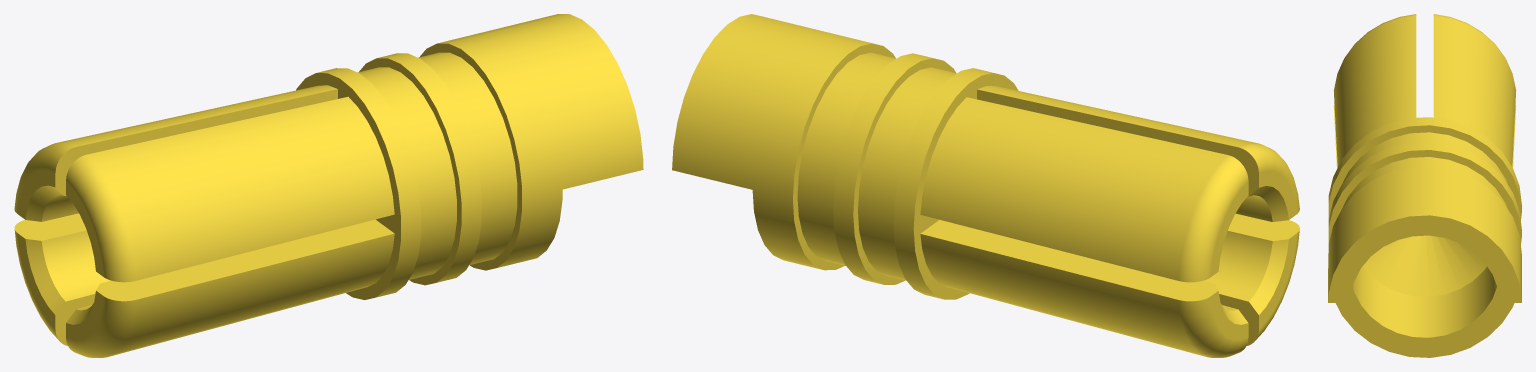
Rendered from REV_21_1652_P12_1__REV_21_1652_P12_1.gltf.
The picture shows the model from 3 angles, left to right: view 1: azimuth 30°, elevation 25°; view 2: azimuth 150°, elevation 25°; view 3: azimuth 270°, elevation 25°; orthographic projection. The views are drawn at different scales.
Visible parts, largest first — view 1: mesh81405, mesh81388, mesh81419, mesh81390, mesh81394, mesh81421, mesh81392, mesh81396, mesh81406, mesh81401, mesh81418, mesh81397 (+14 smaller); view 2: mesh81398, mesh81388, mesh81412, mesh81390, mesh81394, mesh81414, mesh81392, mesh81396, mesh81399, mesh81408, mesh81425, mesh81397 (+14 smaller); view 3: mesh81388, mesh81398, mesh81405, mesh81383, mesh81384, mesh81382, mesh81387, mesh81395, mesh81391, mesh81392, mesh81396, mesh81390 (+3 smaller).
Boxes of the visible parts, box(x1,y1,x2,y2) form: mesh81405: box(87, 96, 394, 280); mesh81388: box(437, 14, 643, 267); mesh81419: box(108, 233, 394, 356); mesh81390: box(418, 52, 517, 265); mesh81394: box(358, 67, 456, 279); mesh81421: box(96, 219, 394, 301); mesh81392: box(377, 53, 481, 282); mesh81396: box(317, 68, 421, 297); mesh81406: box(66, 154, 135, 282); mesh81401: box(55, 89, 337, 195); mesh81418: box(41, 230, 110, 301); mesh81397: box(296, 73, 400, 299); mesh81398: box(920, 97, 1227, 280); mesh81388: box(672, 14, 874, 269); mesh81412: box(920, 234, 1205, 356); mesh81390: box(797, 52, 895, 265); mesh81394: box(858, 67, 956, 280); mesh81414: box(920, 219, 1218, 301); mesh81392: box(833, 53, 934, 284); mesh81396: box(893, 68, 997, 299); mesh81399: box(1178, 155, 1248, 282); mesh81408: box(977, 89, 1258, 196); mesh81425: box(1203, 231, 1272, 301); mesh81397: box(913, 73, 1018, 299); mesh81388: box(1328, 166, 1521, 302); mesh81398: box(1433, 16, 1515, 166); mesh81405: box(1334, 16, 1416, 167); mesh81383: box(1353, 266, 1496, 337); mesh81384: box(1328, 215, 1521, 302); mesh81382: box(1363, 235, 1486, 296); mesh81387: box(1335, 287, 1514, 357); mesh81395: box(1328, 125, 1521, 220); mesh81391: box(1328, 150, 1521, 244); mesh81392: box(1328, 141, 1521, 236); mesh81396: box(1328, 117, 1521, 212); mesh81390: box(1343, 157, 1507, 208).
Size of the model in its own units: 0.013 by 0.00499 by 0.005.
